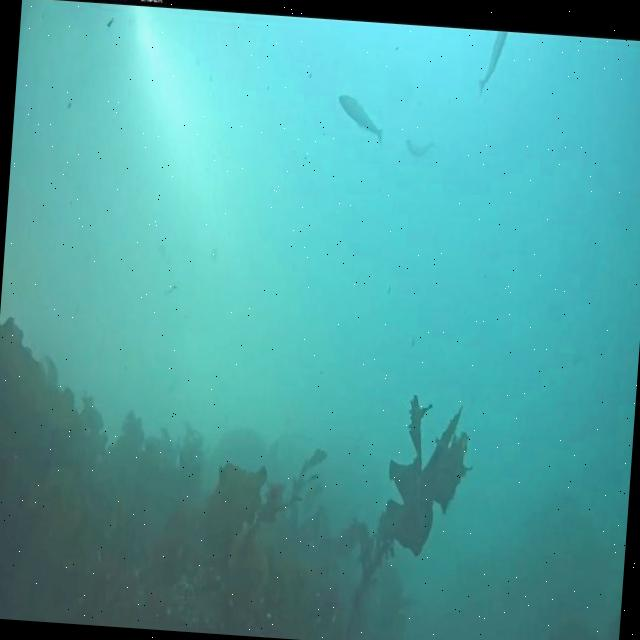fish: (334, 92, 386, 146), (476, 30, 507, 100), (405, 136, 436, 158)
